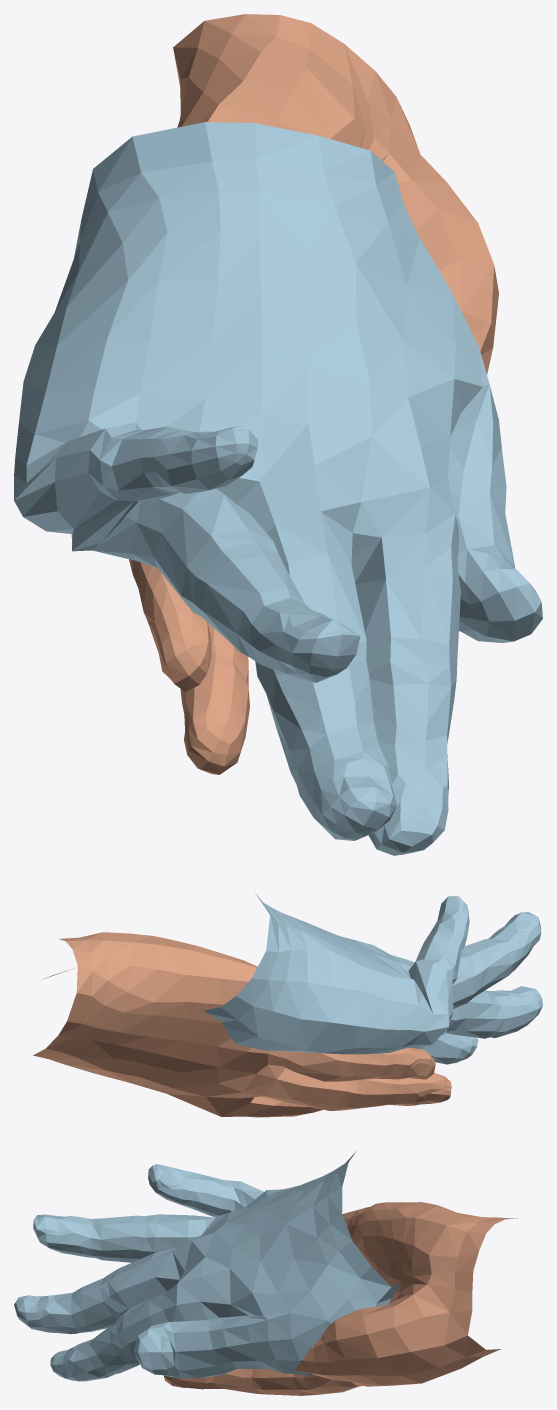
The model's file is frame_007.glb.
3 views of the same model, one above another, from view 1: azimuth 30°, elevation 25°; view 2: azimuth 150°, elevation 25°; view 3: azimuth 270°, elevation 25° (orthographic). The views are drawn at different scales.
Visible parts, largest first — view 1: world; view 2: world; view 3: world.
Boxes of the visible parts, <box> form: world: <box>14,14,542,855</box>; world: <box>33,893,542,1117</box>; world: <box>14,1151,517,1395</box>.
Bounding box in the file's own units: 0.1277 × 0.1011 × 0.1929.
